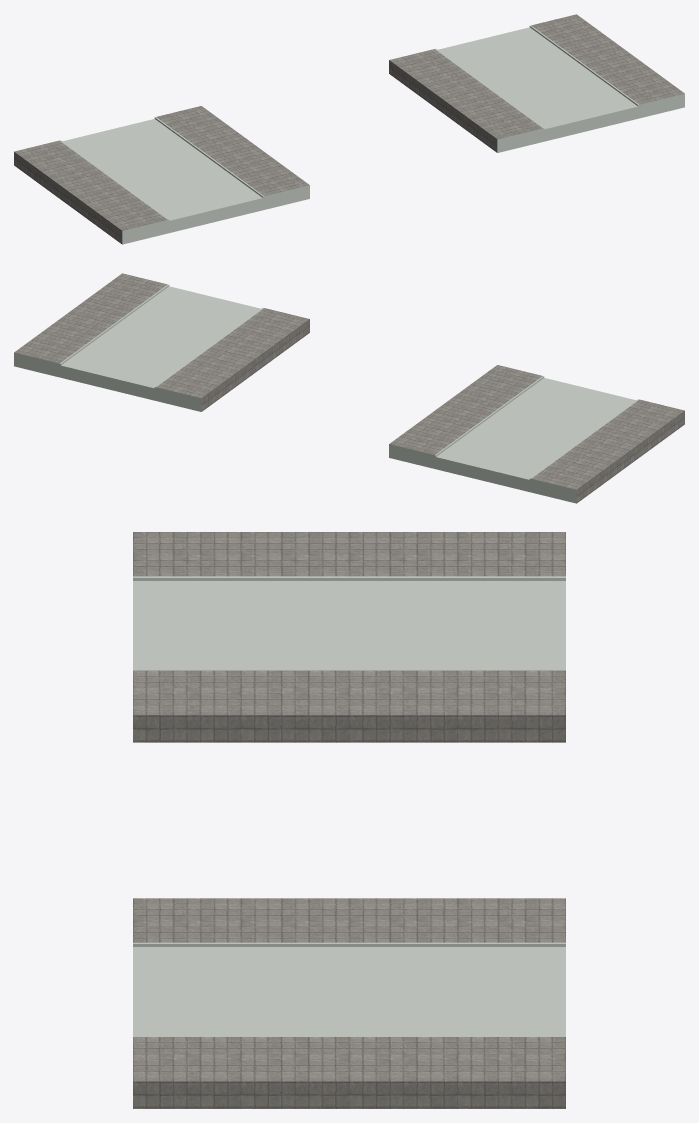
Rendered from doubleStraightShort_high.fbx.
3 renders of one model, top to bottom at view 1: azimuth 30°, elevation 25°; view 2: azimuth 150°, elevation 25°; view 3: azimuth 270°, elevation 25°, orthographic. The views are drawn at different scales.
Visible parts, largest first — view 1: materialC150, materialA150, materialB150, materialD150, materialE150; view 2: materialC150, materialA150, materialB150, materialD150, materialE150; view 3: materialC150, materialA150, materialD150, materialE150.
Boxes of the visible parts, left/top/right/bottom form: materialC150: left=14, top=14, right=684, bottom=244; materialA150: left=63, top=27, right=637, bottom=220; materialB150: left=122, top=93, right=684, bottom=244; materialD150: left=60, top=25, right=638, bottom=219; materialE150: left=154, top=26, right=637, bottom=197; materialC150: left=14, top=273, right=684, bottom=503; materialA150: left=61, top=286, right=635, bottom=479; materialB150: left=14, top=352, right=576, bottom=503; materialD150: left=60, top=284, right=638, bottom=478; materialE150: left=61, top=285, right=544, bottom=456; materialC150: left=133, top=532, right=565, bottom=1108; materialA150: left=133, top=581, right=565, bottom=1035; materialD150: left=133, top=576, right=565, bottom=1036; materialE150: left=133, top=578, right=565, bottom=946.
Bounding box in the file's own units: 76.8 × 1.8 × 25.6.
